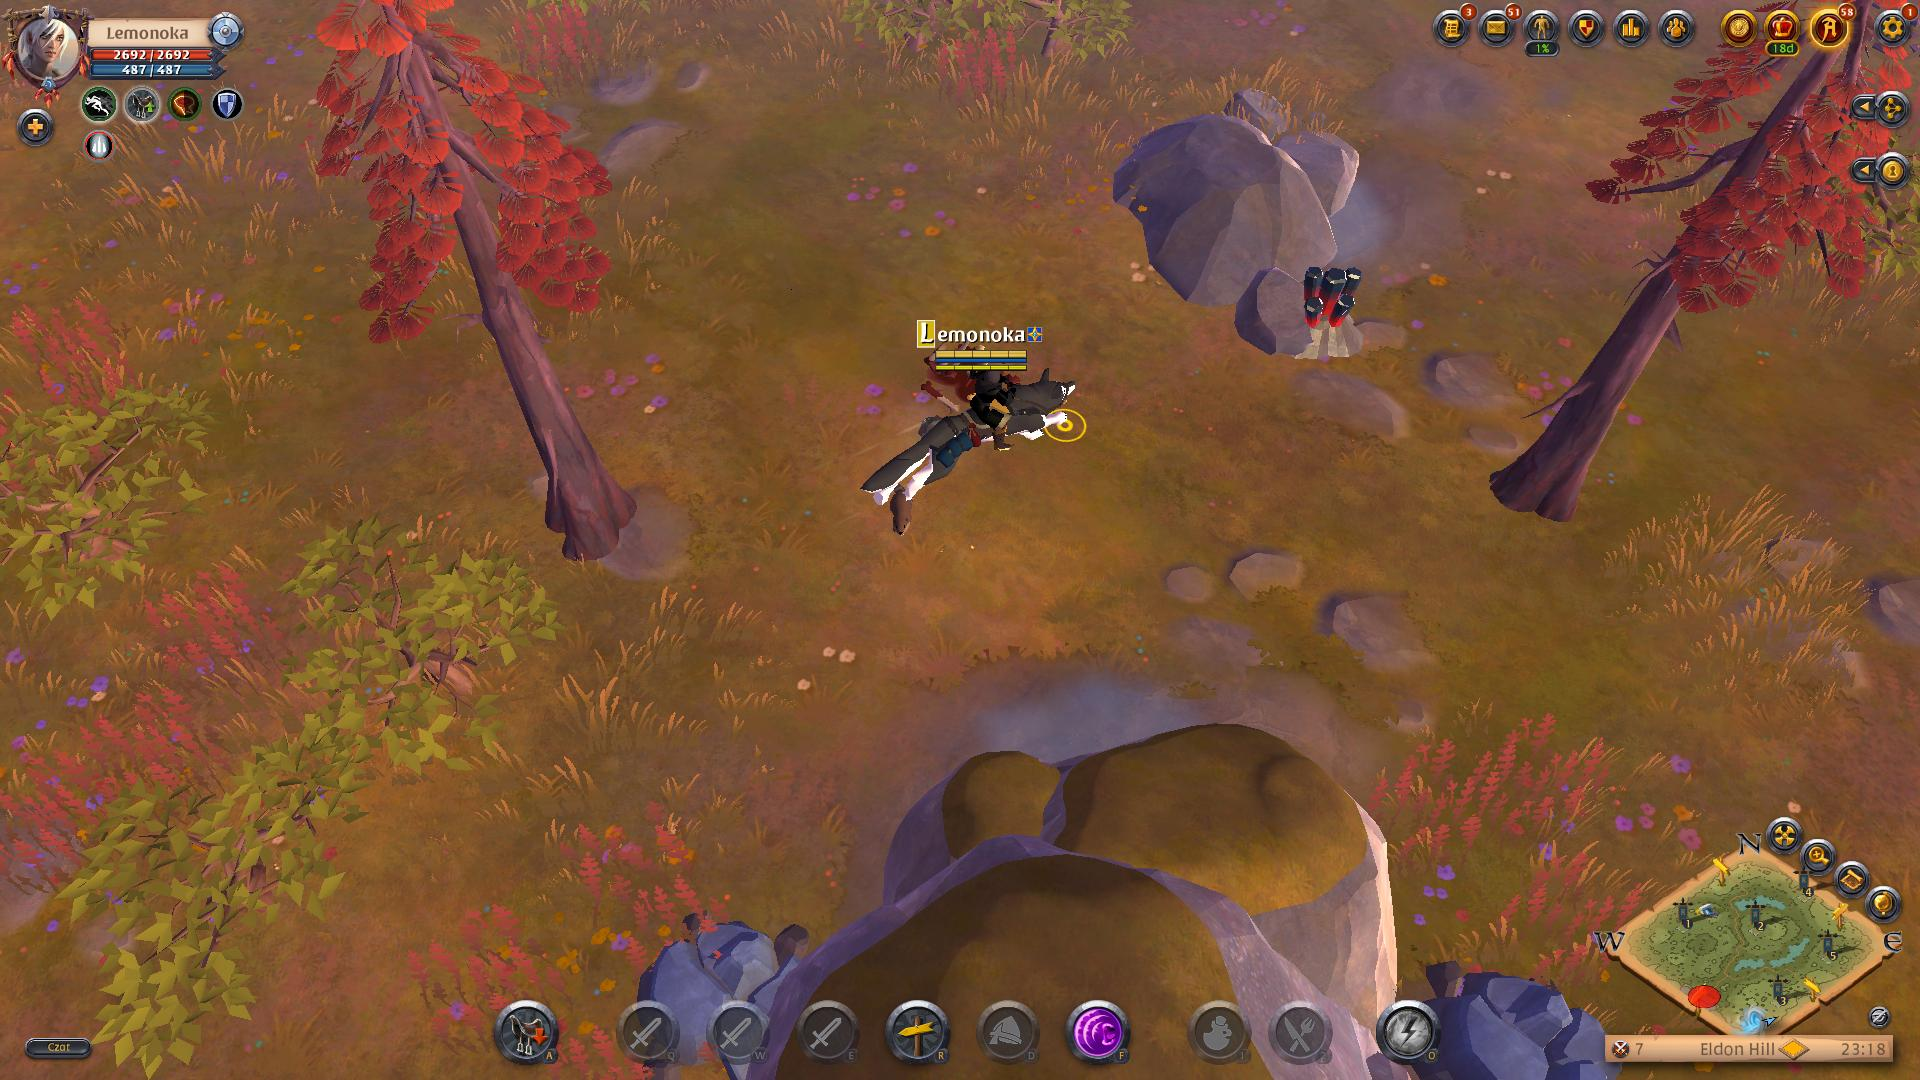ore tier 5: (1287, 257, 1370, 371)
wood tier 5: (309, 0, 620, 349), (1588, 55, 1920, 324)
